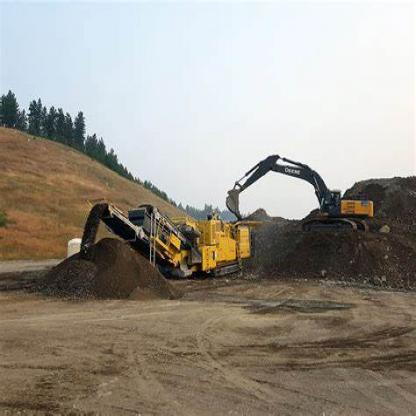excavator: (223, 148, 375, 236)
